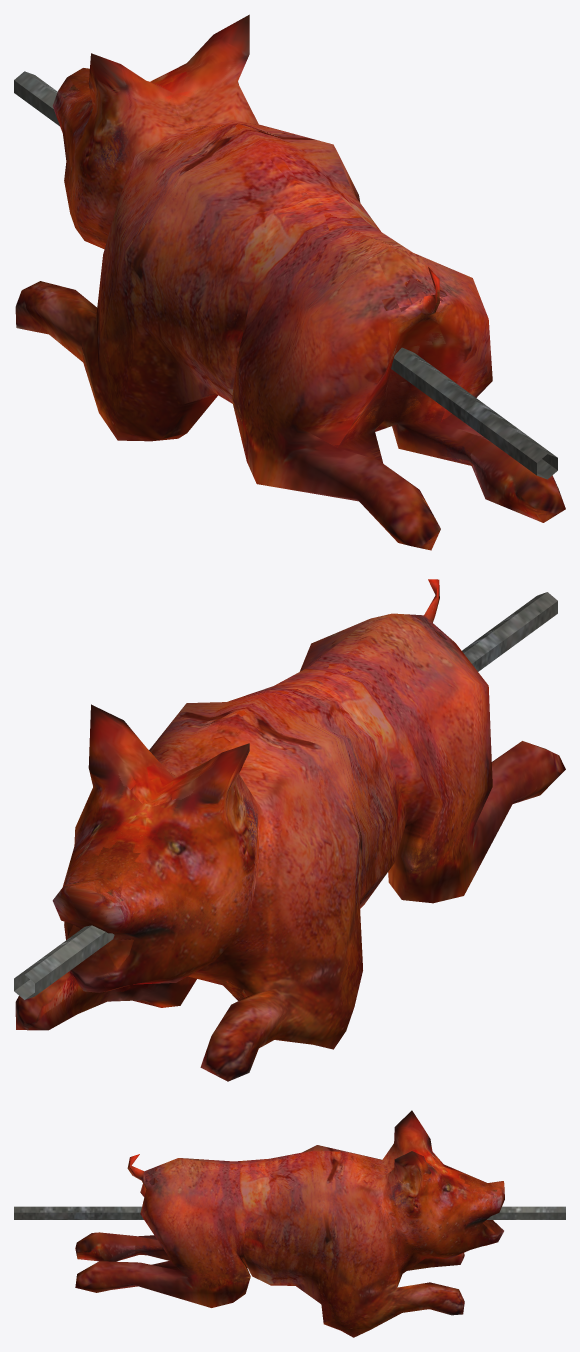
File: RoastPIg.fbx
3 renders of one model, top to bottom at view 1: azimuth 30°, elevation 25°; view 2: azimuth 150°, elevation 25°; view 3: azimuth 270°, elevation 25°, orthographic. The views are drawn at different scales.
Parts seen in each view (by area): view 1: Sphere.001; view 2: Sphere.001; view 3: Sphere.001.
Part boxes in pixels (left/top/right/bottom): Sphere.001: left=14, top=14, right=565, bottom=550; Sphere.001: left=14, top=579, right=565, bottom=1081; Sphere.001: left=14, top=1110, right=565, bottom=1337.
Bounding box in the file's own units: 33.78 × 45.07 × 125.
